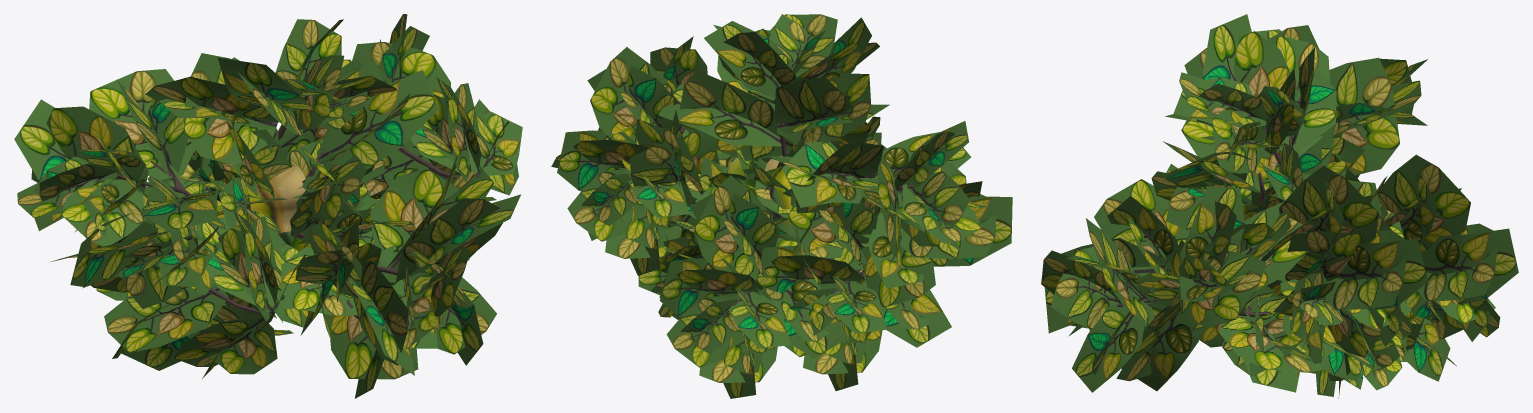
The model's file is stylized foliage.fbx.
The picture shows the model from 3 angles, left to right: view 1: azimuth 30°, elevation 25°; view 2: azimuth 150°, elevation 25°; view 3: azimuth 270°, elevation 25°; orthographic projection. The views are drawn at different scales.
Visible parts, largest first — view 1: BIG FOLLIAGE.013; view 2: BIG FOLLIAGE.013; view 3: BIG FOLLIAGE.013.
Boxes of the visible parts, box(x1,y1,x2,y2) form: BIG FOLLIAGE.013: box(14, 14, 522, 398); BIG FOLLIAGE.013: box(551, 14, 1012, 398); BIG FOLLIAGE.013: box(1041, 14, 1518, 398).
Size of the model in its own units: 236 by 176 by 218.
2 materials, 1 textured.
